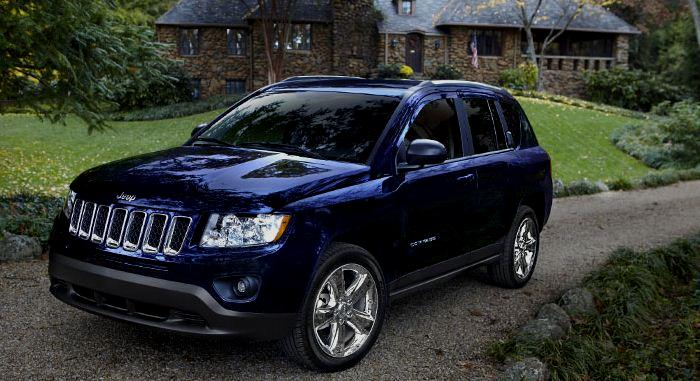jeep: (107, 182, 144, 212)
